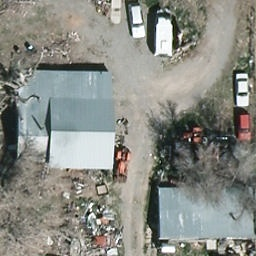camping car: (155, 9, 174, 57)
car: (126, 3, 147, 39), (235, 73, 253, 107), (233, 114, 253, 141)
other: (112, 147, 130, 183)
tractor: (177, 127, 204, 146)
